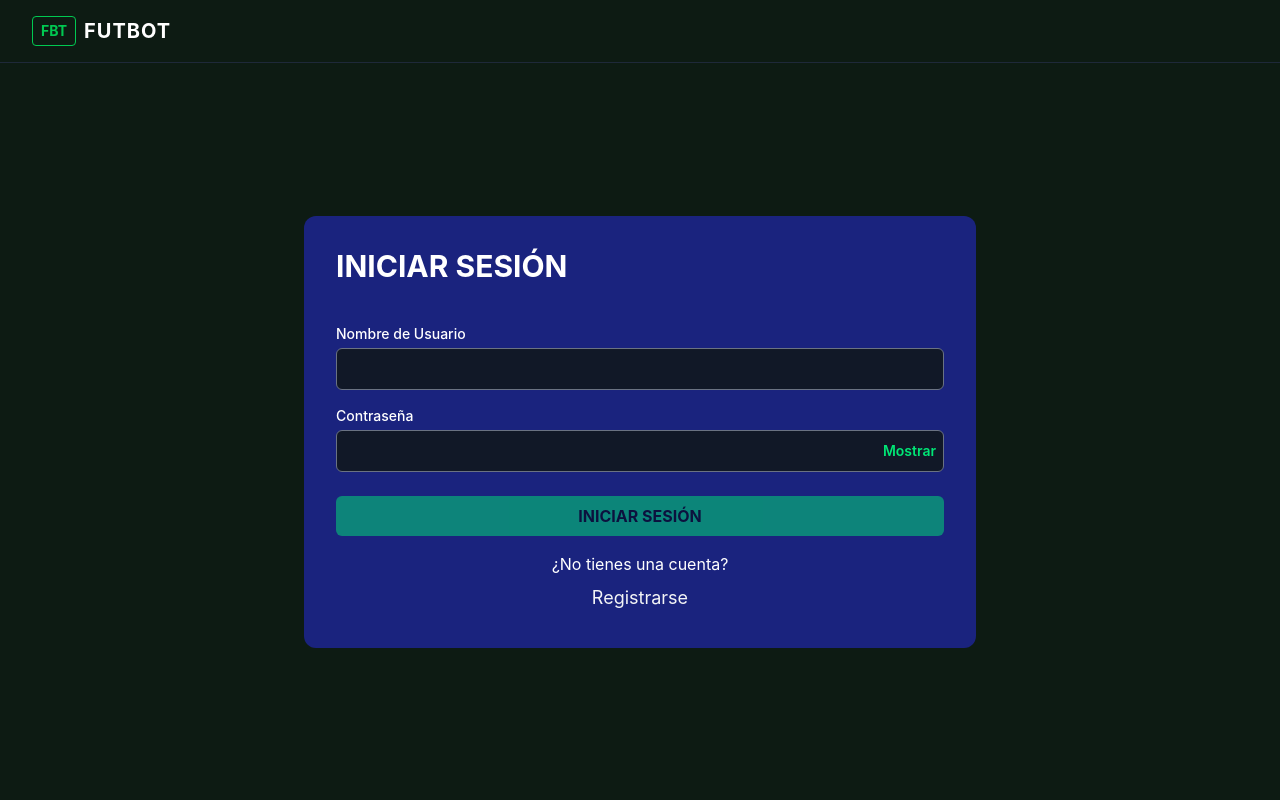
Login › muestra el error de la API cuando responde 400
The image size is (1280, 800).
Type "usuario123" into the field labelled "Nombre de Usuario". click: (640, 368)
box: [336,348,944,390]
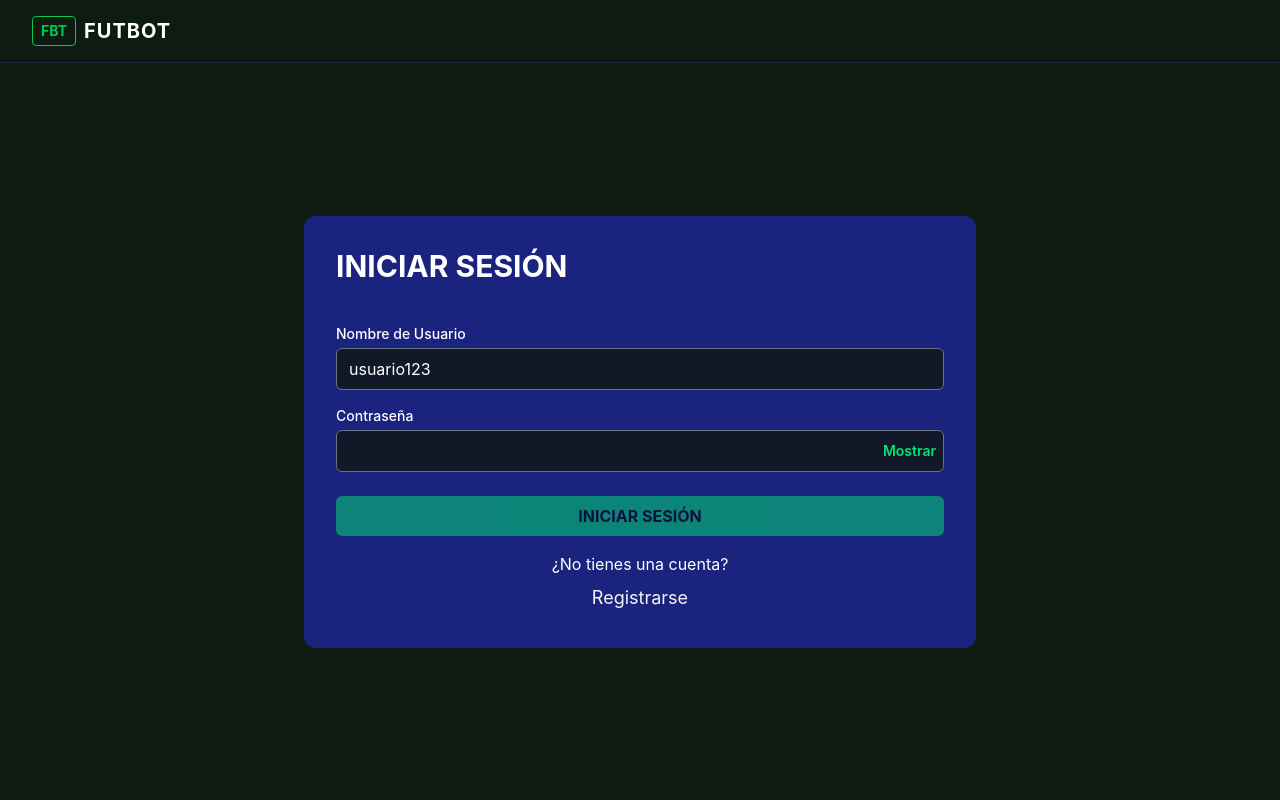
Type "password123" into the password field labelled "Contraseña". click: (640, 450)
box: [336,430,944,472]
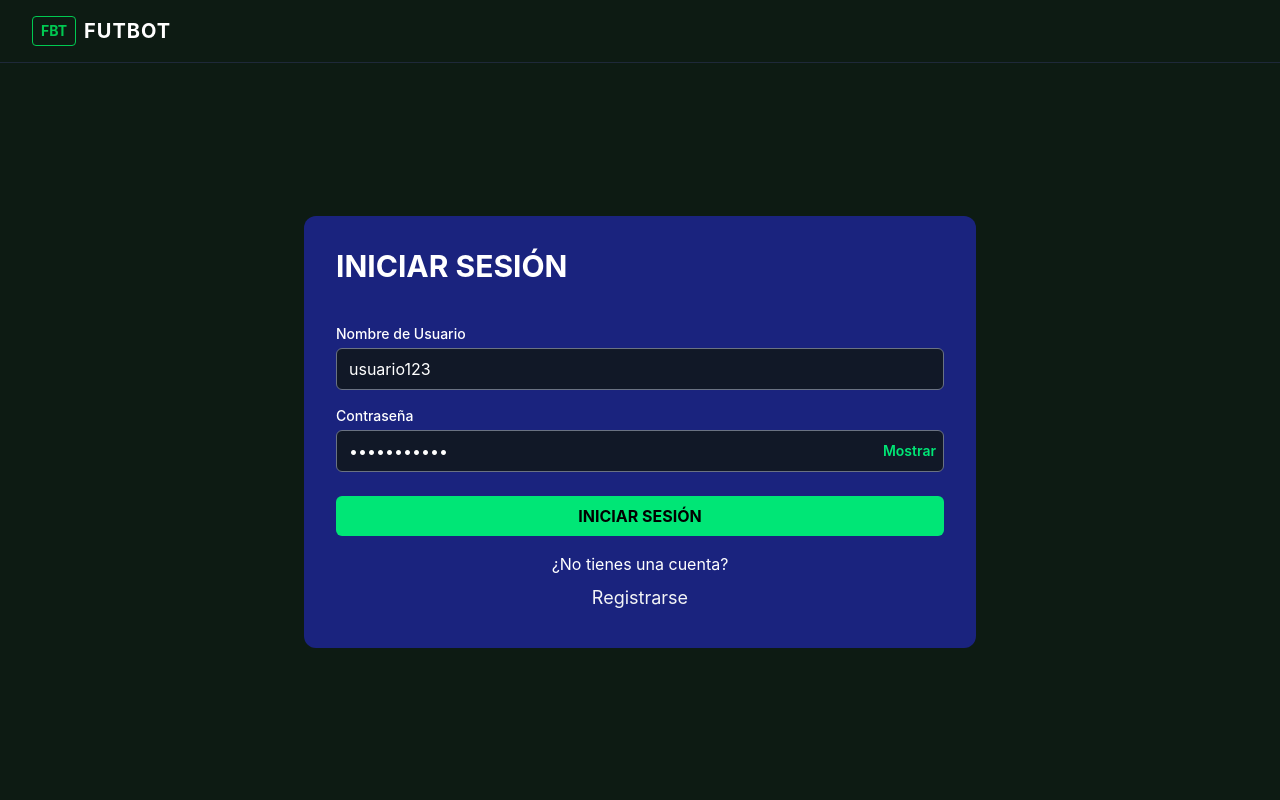
Click the button "INICIAR SESIÓN". click: click(640, 516)
box: [336,496,944,536]
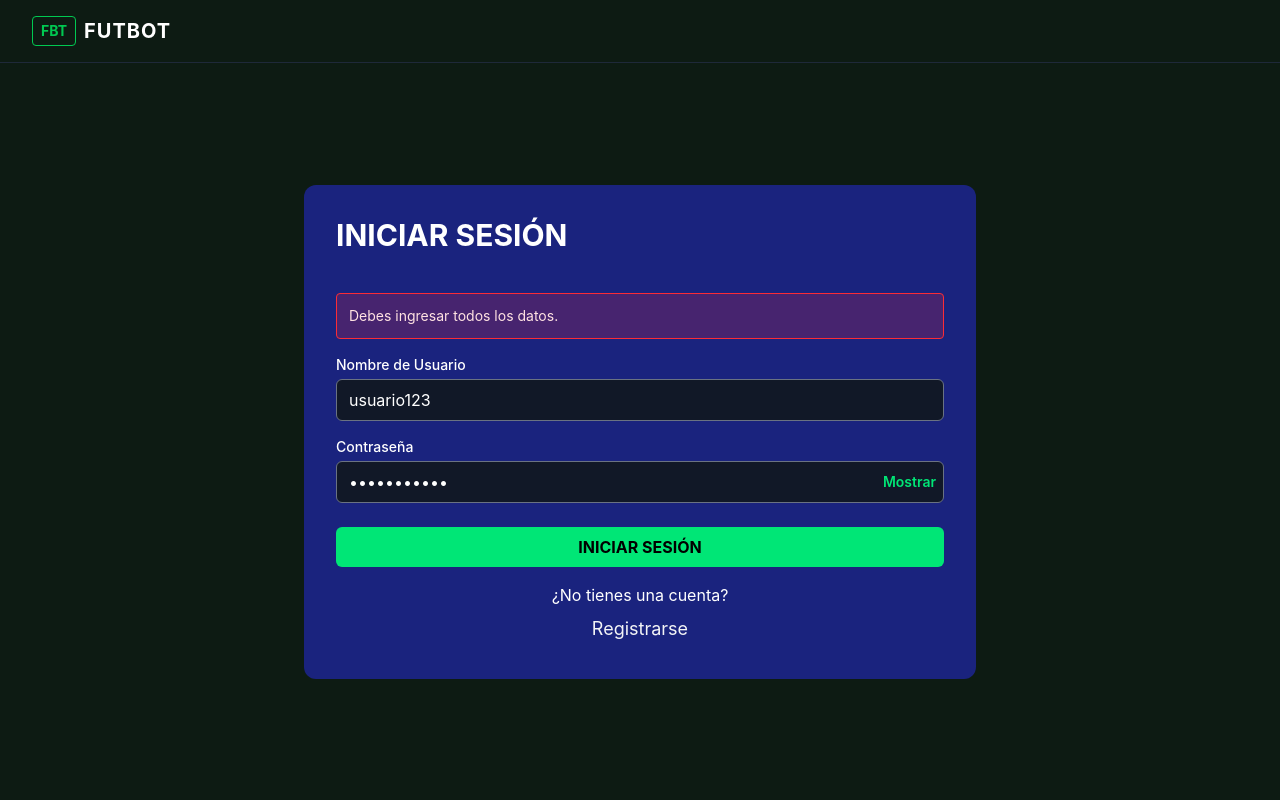
Expected: the text "Debes ingresar todos los datos." is shown, [336,292,944,338]
